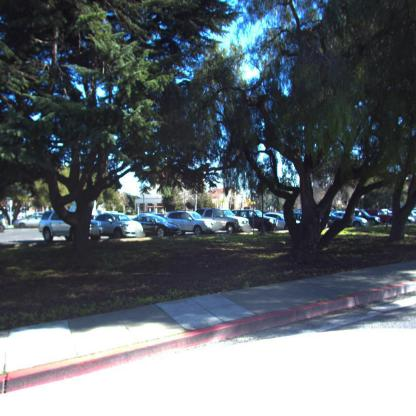car: (92, 212, 147, 241), (196, 207, 247, 233), (164, 211, 215, 237), (133, 214, 181, 238), (328, 208, 380, 230), (38, 211, 72, 242), (236, 210, 276, 233), (354, 209, 382, 227), (264, 212, 286, 231), (16, 213, 43, 228)
